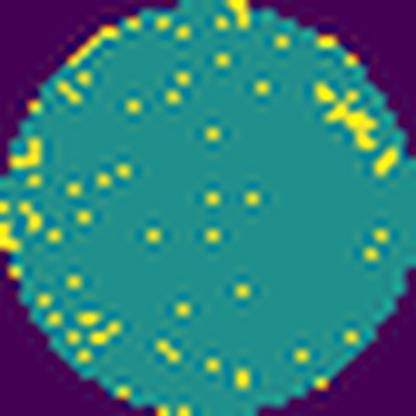Loc: (314, 78, 377, 152)
